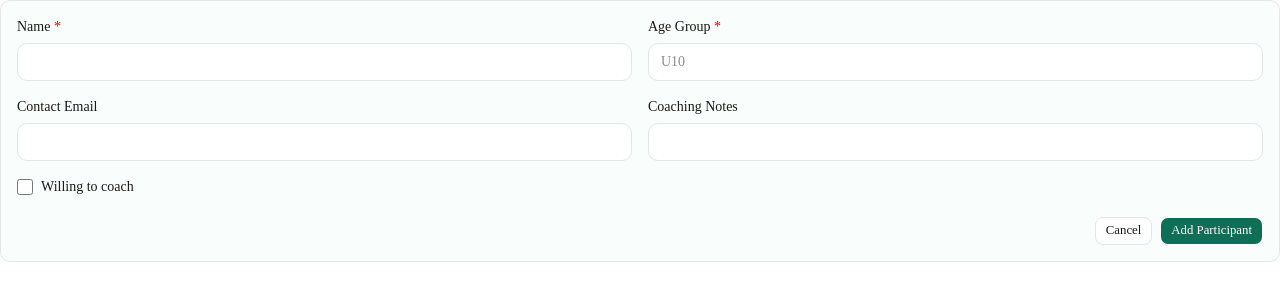
ParticipantForm › required field validation › shows an age group error when submitted without an age group
In the field labelled "Name *": (324, 62) [17, 43, 632, 81], type "Alice"
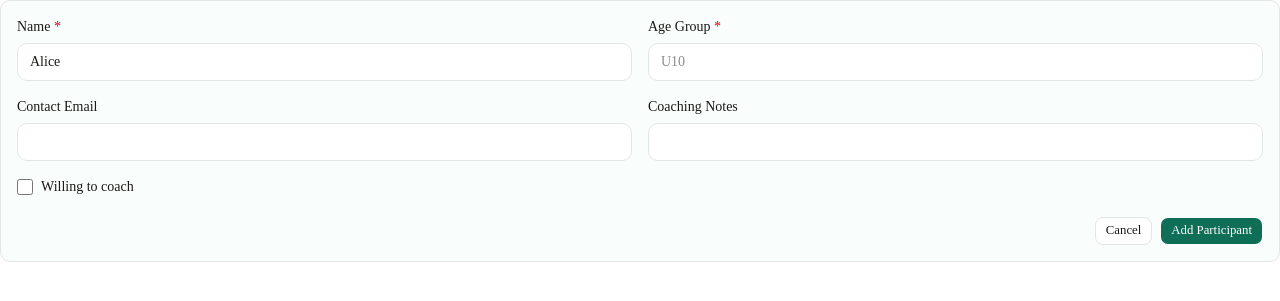
Click the button "Add Participant": (1212, 231) [1160, 217, 1263, 245]
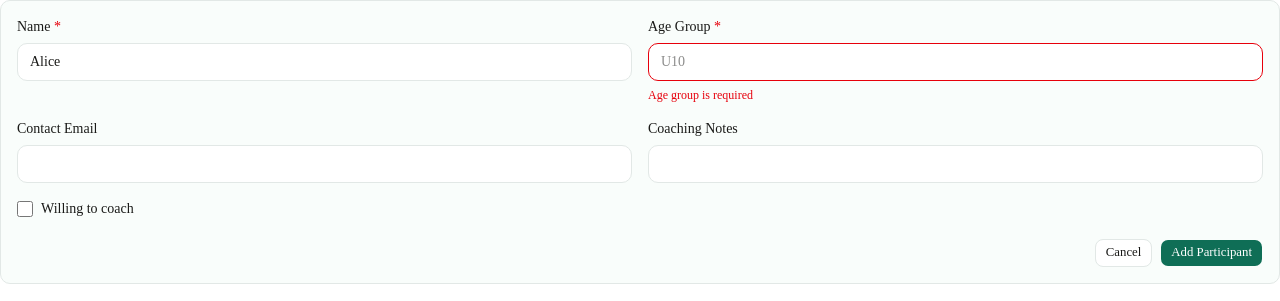
Result: the text "Age group is required" is shown at [648, 88, 753, 102]
